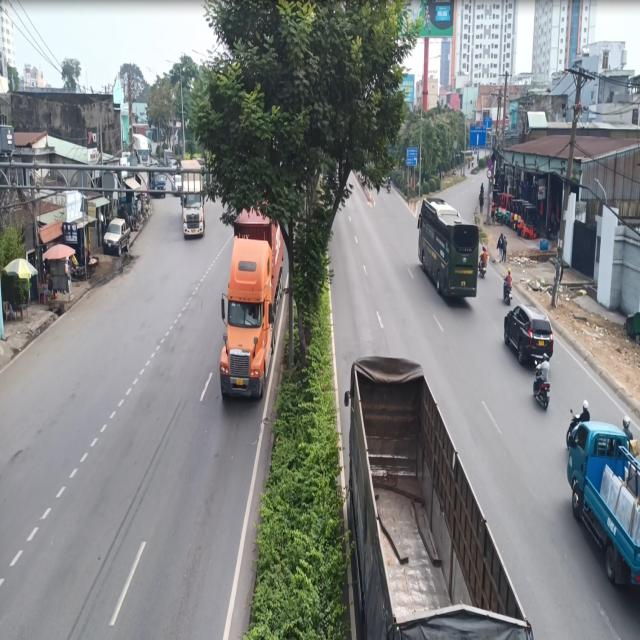bus: (414, 187, 489, 309)
car: (508, 298, 560, 372)
motor: (531, 346, 555, 414)
truck: (340, 354, 533, 640), (214, 203, 286, 400)
